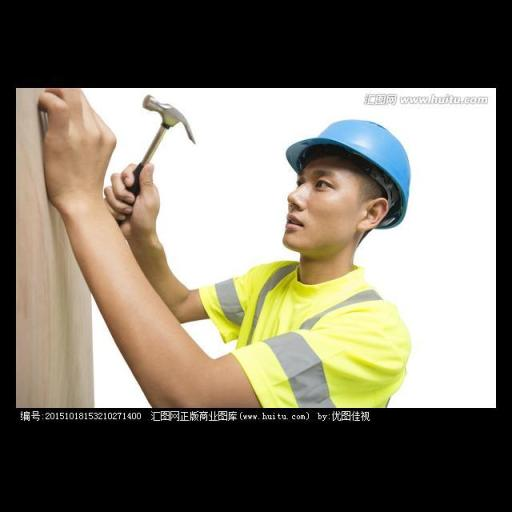Person: (18, 84, 445, 435)
helmet: (271, 116, 423, 237)
vest: (191, 264, 408, 408)
